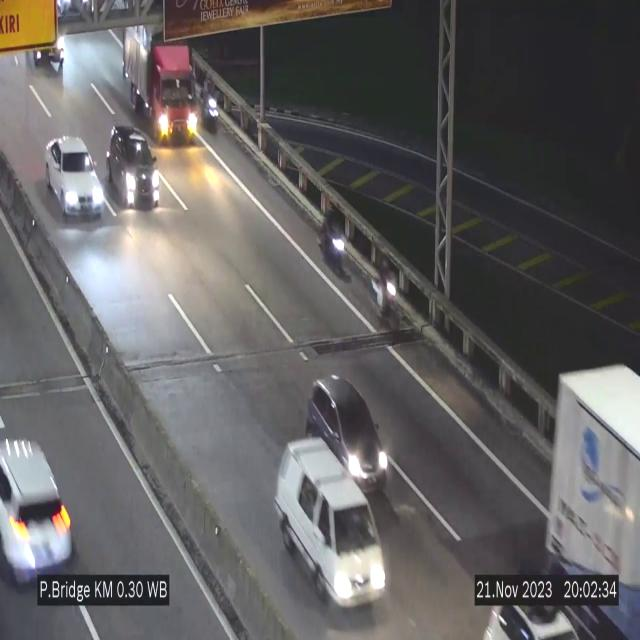Car: (276, 438, 386, 610), (307, 371, 388, 498), (104, 122, 164, 210), (46, 135, 105, 216)
Motorcycle: (373, 247, 400, 334), (320, 202, 350, 277), (199, 82, 221, 140)
Truck: (122, 30, 200, 147)
